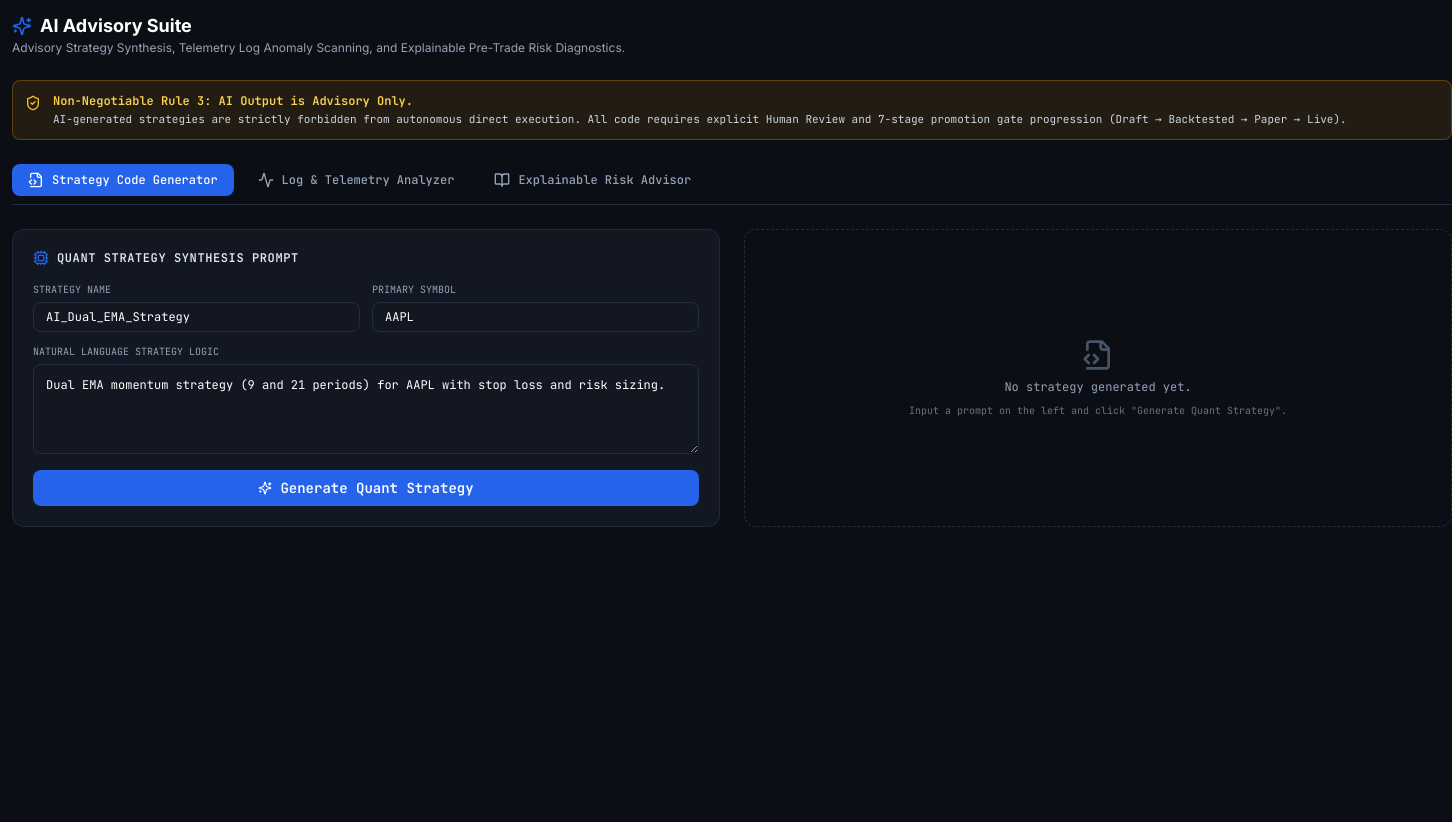
Test: AIAdvisorySuitePage › switches to log analyzer and scans logs
This screenshot has width=1452, height=822.
Click the button "Log & Telemetry Analyzer". click: (356, 180)
box: top-left (242, 164), bottom-right (470, 196)
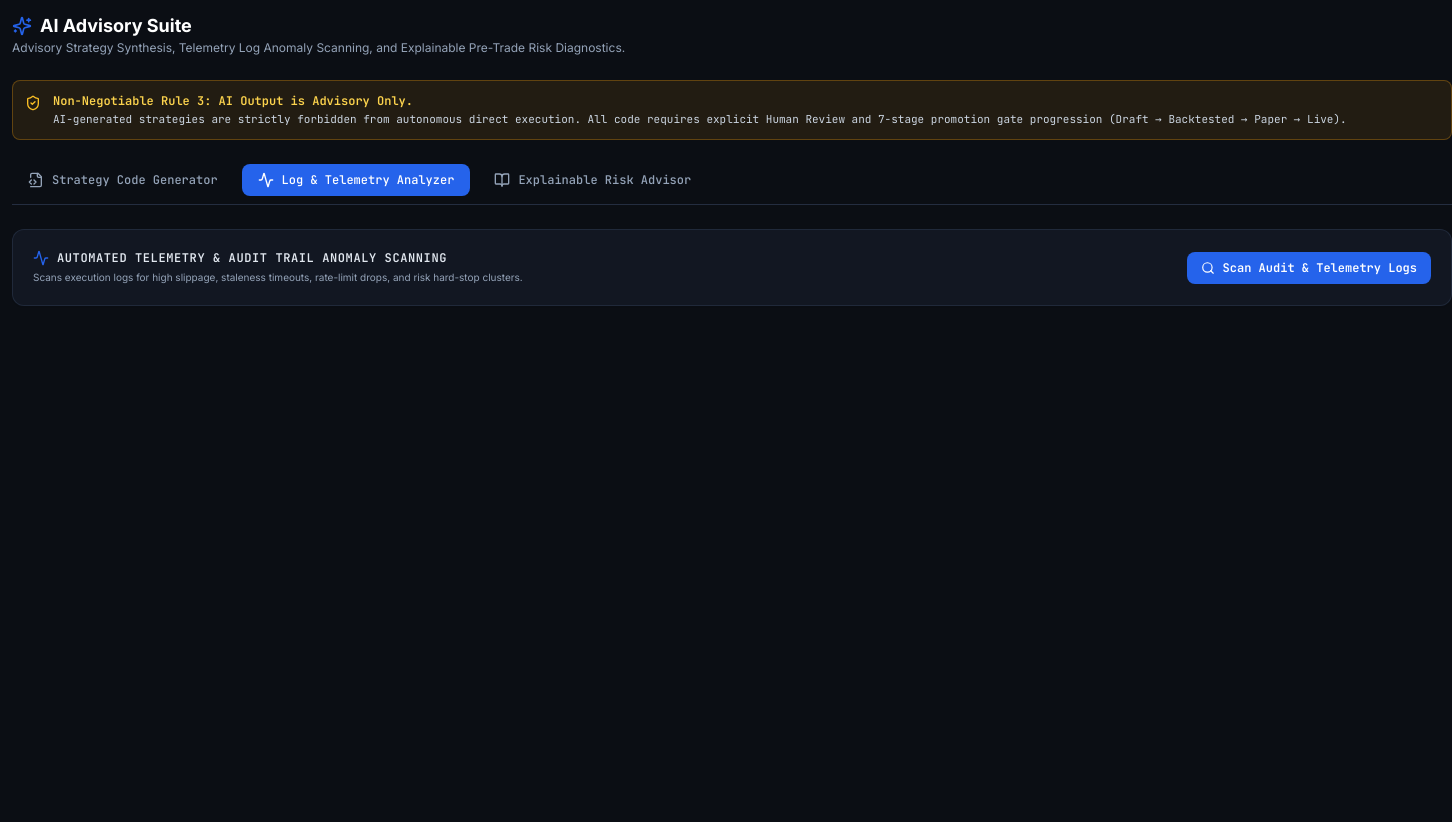
Click the button "Scan Audit & Telemetry Logs". click: (1309, 268)
box: top-left (1187, 252), bottom-right (1431, 284)
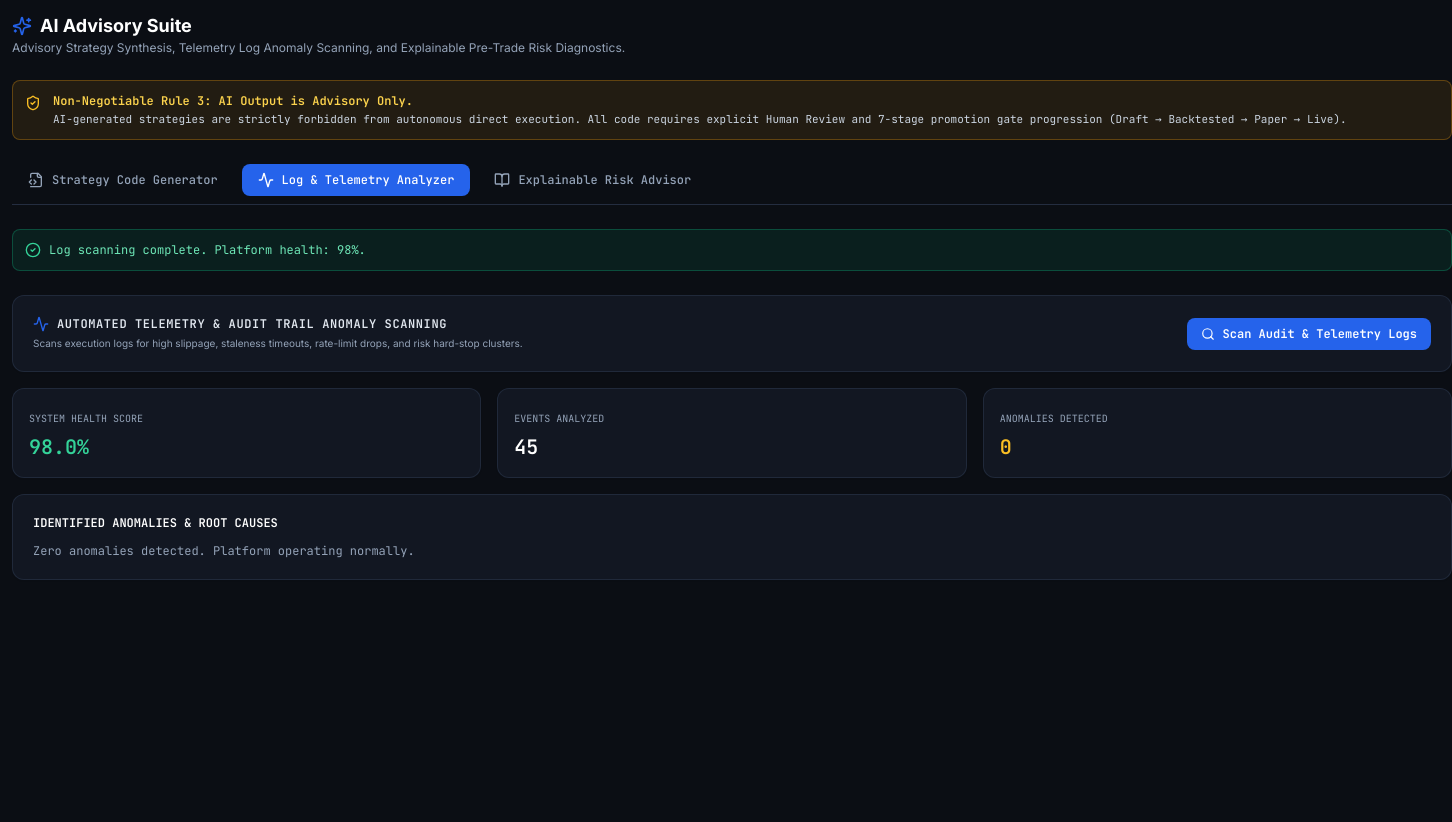
Result: the text "98.0%" is shown at top-left (29, 434), bottom-right (89, 460)
